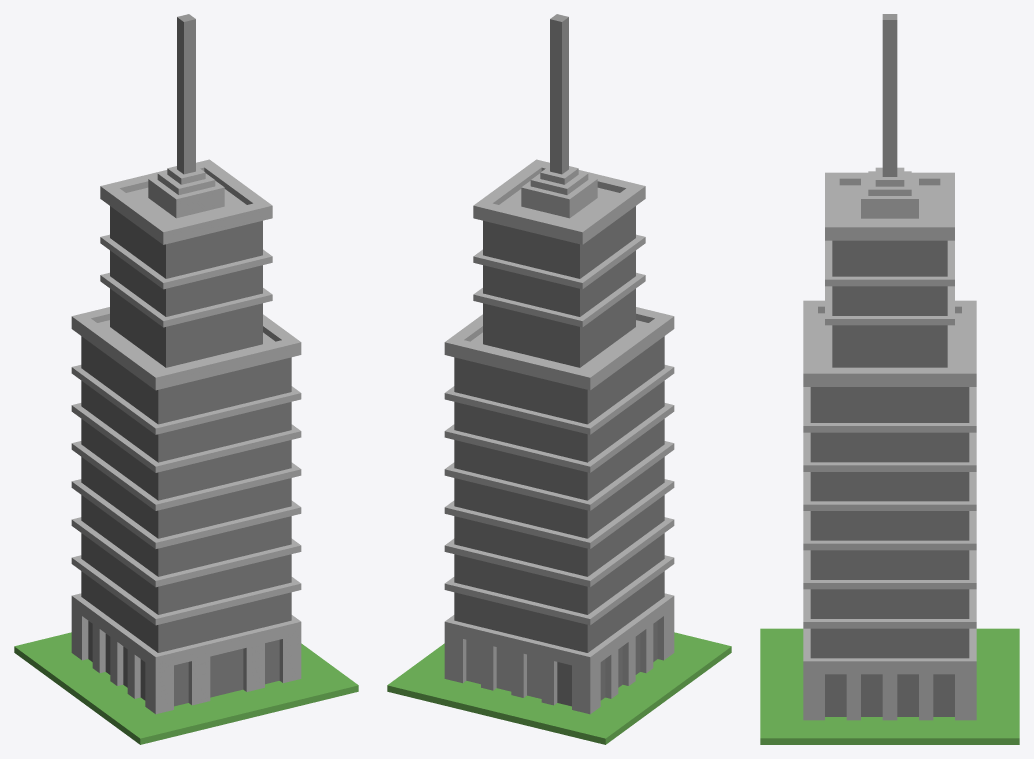
3 views of the same model, side by side, from view 1: azimuth 30°, elevation 25°; view 2: azimuth 150°, elevation 25°; view 3: azimuth 270°, elevation 25° (orthographic). The views are drawn at different scales.
Visible parts, largest first — view 1: 6; view 2: 6; view 3: 6.
Part boxes in pixels (x1,y1,x2,y2): 6: (14,14,358,744); 6: (387,14,731,744); 6: (760,14,1019,744).
Size of the model in its own units: 900 by 2575 by 900.
